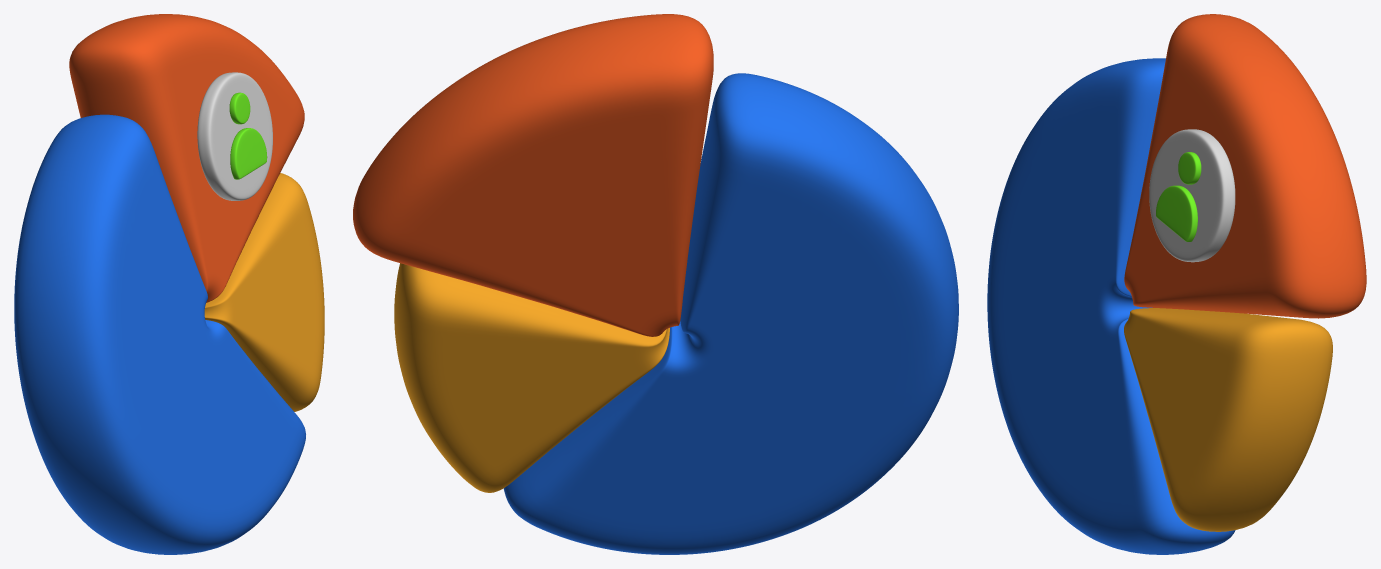
File: customer-segmentation-3d-animated-icon-180019714253.glb
3 renders of one model, left to right at view 1: azimuth 30°, elevation 25°; view 2: azimuth 150°, elevation 25°; view 3: azimuth 270°, elevation 25°, orthographic. The views are drawn at different scales.
Parts seen in each view (by area): view 1: big pie chart, medium pie chart, small pie chart, circle, people icon; view 2: big pie chart, medium pie chart, small pie chart; view 3: big pie chart, medium pie chart, small pie chart, circle, people icon.
Boxes of the visible parts, x1=… form: big pie chart: x1=14, y1=114, x2=305, y2=554; medium pie chart: x1=69, y1=14, x2=304, y2=302; small pie chart: x1=204, y1=173, x2=324, y2=411; circle: x1=197, y1=72, x2=272, y2=200; people icon: x1=229, y1=92, x2=267, y2=179; big pie chart: x1=503, y1=73, x2=958, y2=554; medium pie chart: x1=353, y1=14, x2=713, y2=336; small pie chart: x1=394, y1=263, x2=669, y2=492; big pie chart: x1=987, y1=58, x2=1235, y2=554; medium pie chart: x1=1124, y1=14, x2=1366, y2=318; small pie chart: x1=1124, y1=308, x2=1332, y2=531; circle: x1=1149, y1=129, x2=1235, y2=262; people icon: x1=1156, y1=152, x2=1201, y2=241.
Bounding box in the file's own units: 2.64 × 3.12 × 2.15.
